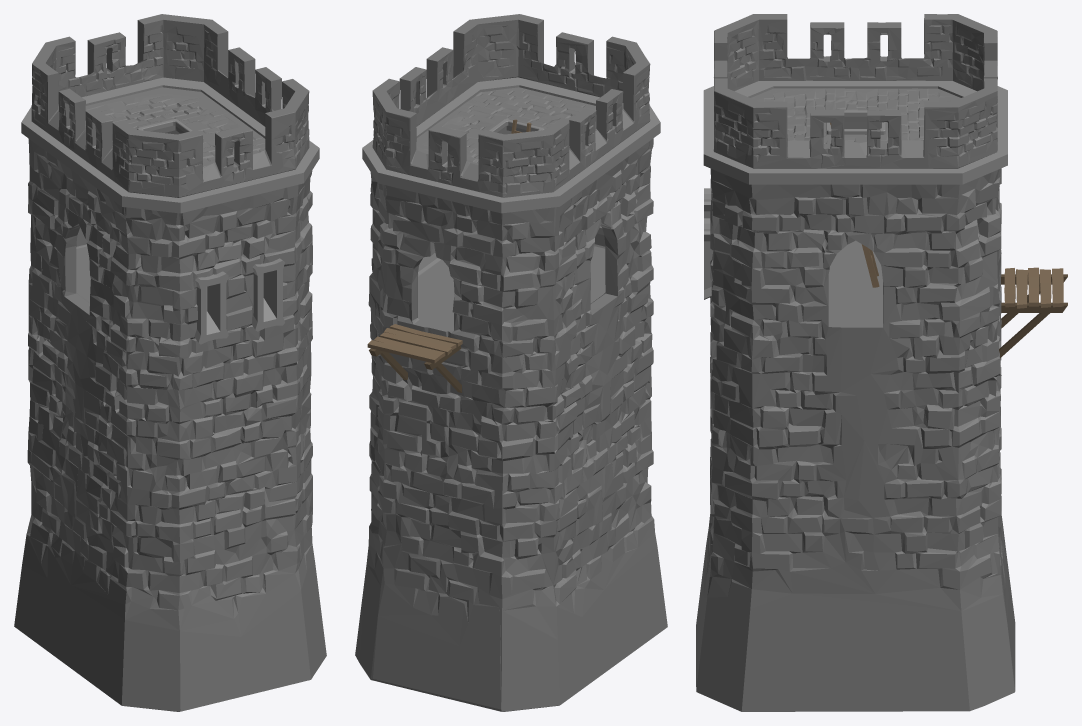
The model's file is castle_tower_b.FBX.
3 renders of one model, left to right at view 1: azimuth 30°, elevation 25°; view 2: azimuth 150°, elevation 25°; view 3: azimuth 270°, elevation 25°, orthographic. The views are drawn at different scales.
Visible parts, largest first — view 1: castle_tower_b; view 2: castle_tower_b; view 3: castle_tower_b.
Boxes of the visible parts, x1,y1,x2,y2 form: castle_tower_b: (14, 14, 326, 711); castle_tower_b: (355, 14, 667, 711); castle_tower_b: (696, 14, 1067, 711).
Bounding box in the file's own units: 6.02 × 15.83 × 8.91.
